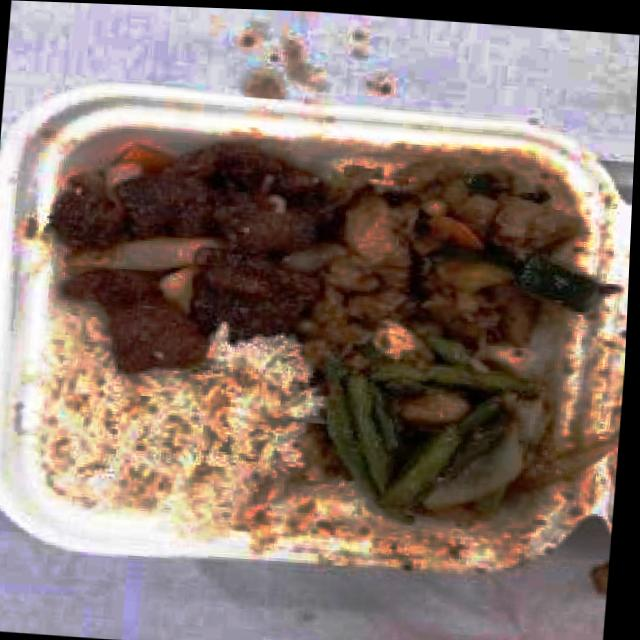Beijing Beef: (54, 137, 325, 380)
Kung Pao Chicken: (319, 161, 595, 359)
String Bean Chicken Breast: (312, 344, 602, 529)
rice: (37, 364, 300, 521), (38, 311, 120, 504), (211, 337, 305, 379)
